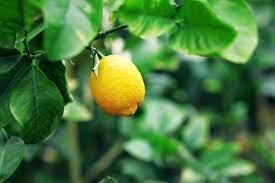lemon: (90, 54, 145, 117)
